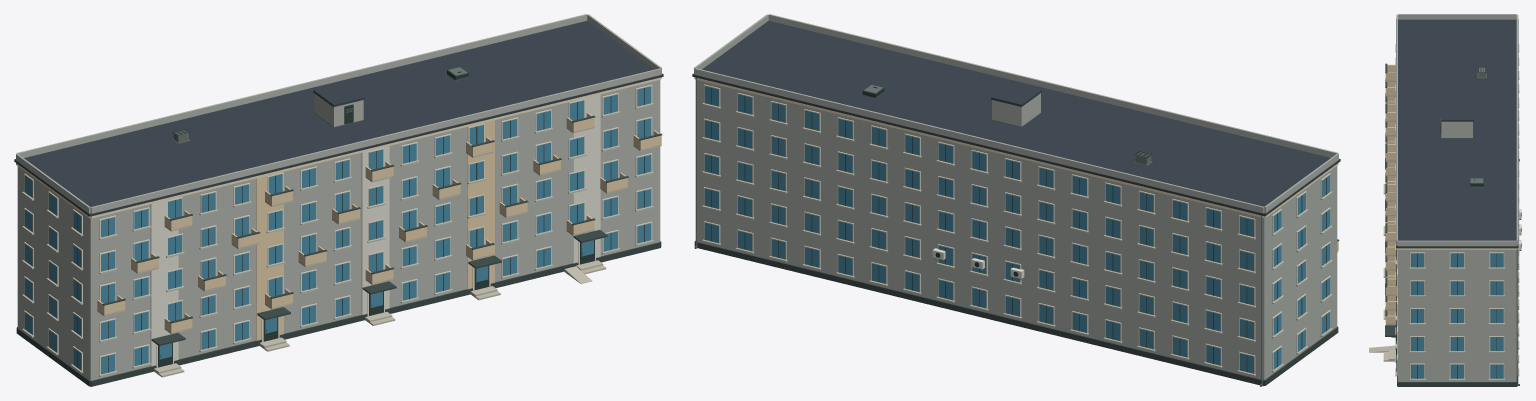
Rendered from Sectional5.obj.
The picture shows the model from 3 angles, left to right: view 1: azimuth 30°, elevation 25°; view 2: azimuth 150°, elevation 25°; view 3: azimuth 270°, elevation 25°; orthographic projection. The views are drawn at different scales.
Visible parts, largest first — view 1: Sectional5; view 2: Sectional5; view 3: Sectional5.
Boxes of the visible parts, x1,y1,x2,y2 form: Sectional5: (14, 14, 663, 386); Sectional5: (692, 14, 1340, 386); Sectional5: (1369, 14, 1521, 386).
Bounding box in the file's own units: 54.5 × 17.8 × 15.42.
1 material, 1 textured.
